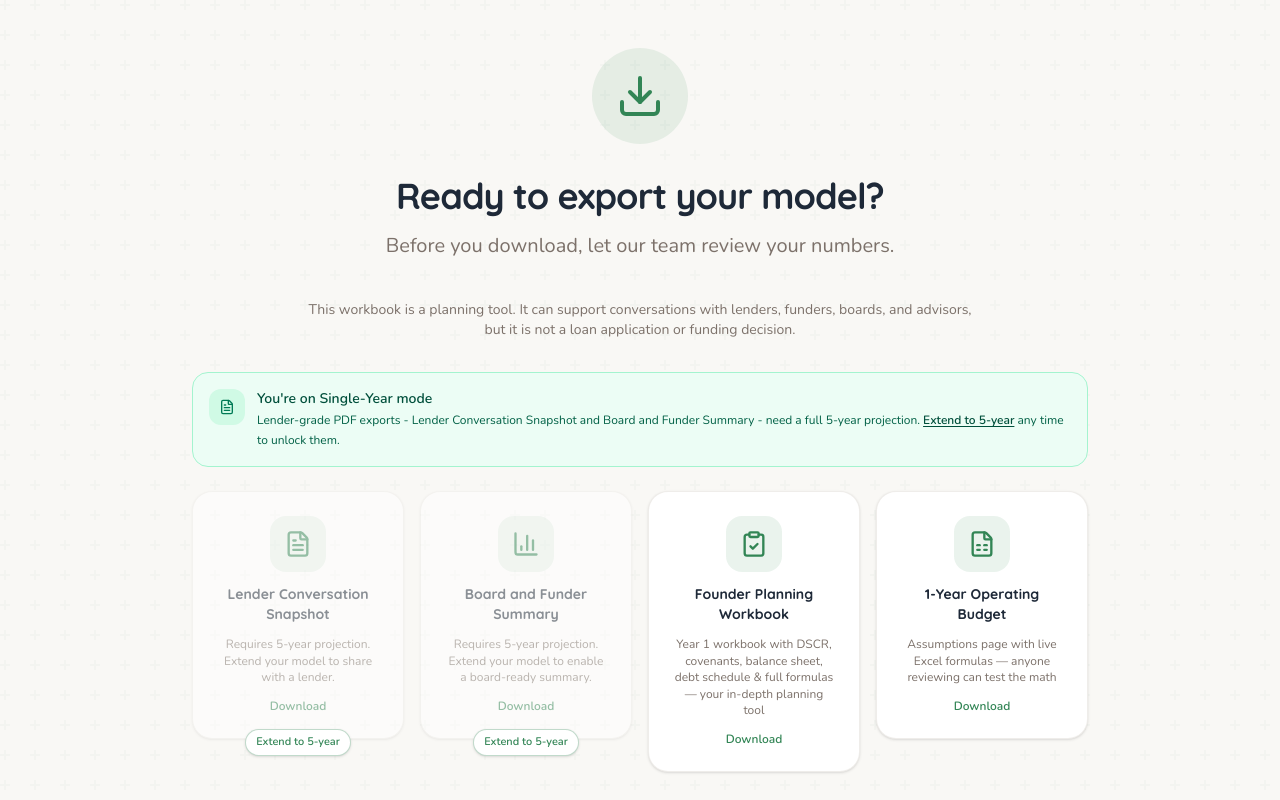
Test: ExportStep — single-year gating for Lender + Board packets › opens the Extend modal when the inline banner CTA is clicked
The width and height of the screenshot is (1280, 800).
Click the button with test id "single-year-banner-extend".
click(969, 421)  # box [923,411,1014,430]
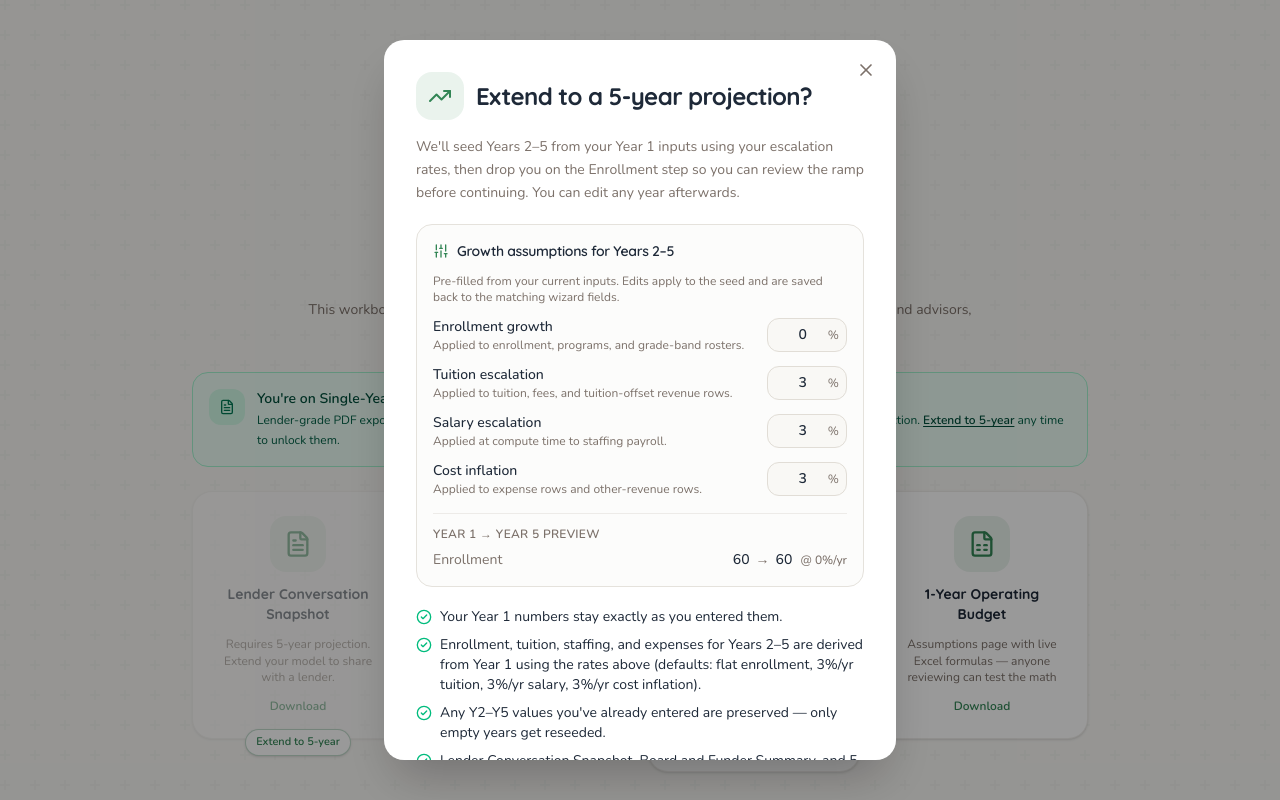
Expected: the heading "Extend to a 5-year projection?" is shown, [476,80,812,112]
